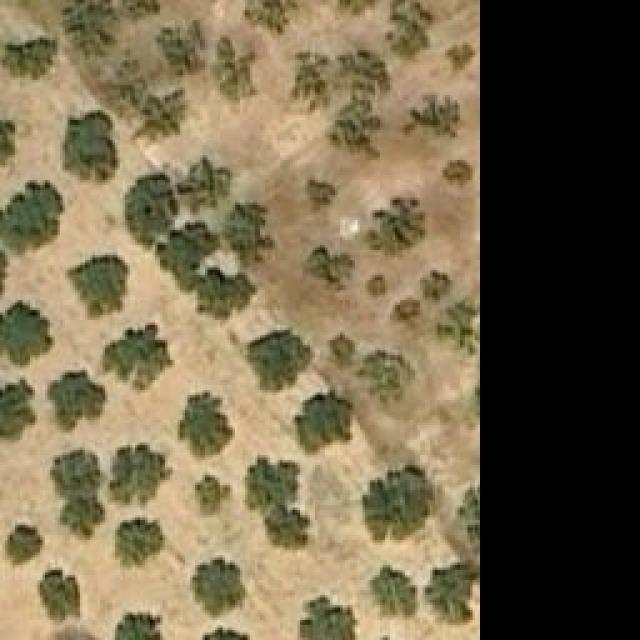Tree: (358, 465, 433, 538), (97, 322, 175, 390), (0, 180, 65, 250), (65, 252, 130, 320), (245, 330, 310, 390), (355, 350, 415, 413), (177, 393, 235, 458), (160, 223, 218, 286), (65, 112, 118, 180), (223, 202, 276, 270), (125, 172, 178, 240), (110, 443, 170, 503), (50, 370, 107, 433), (0, 300, 55, 365), (365, 197, 425, 255), (187, 558, 245, 618), (58, 0, 120, 55), (360, 562, 418, 620), (427, 558, 475, 623), (195, 265, 250, 320), (338, 45, 394, 99), (138, 88, 191, 143), (385, 0, 432, 62), (295, 393, 353, 443), (155, 20, 205, 78), (213, 38, 256, 103), (290, 50, 337, 109), (245, 455, 300, 505), (333, 100, 378, 160), (50, 448, 104, 497), (115, 518, 165, 568), (0, 38, 58, 81), (300, 597, 357, 640), (182, 158, 230, 208), (38, 570, 81, 623), (305, 245, 355, 290), (440, 303, 482, 355), (267, 503, 315, 548), (0, 380, 35, 438), (60, 493, 106, 536), (245, 0, 300, 35), (412, 100, 460, 138), (195, 473, 230, 516), (115, 615, 168, 640), (10, 525, 43, 563), (421, 270, 454, 303), (308, 180, 338, 213), (330, 333, 358, 368), (394, 295, 422, 324), (198, 625, 251, 640), (123, 0, 166, 18), (443, 160, 473, 185), (445, 45, 473, 70), (365, 275, 388, 298)
